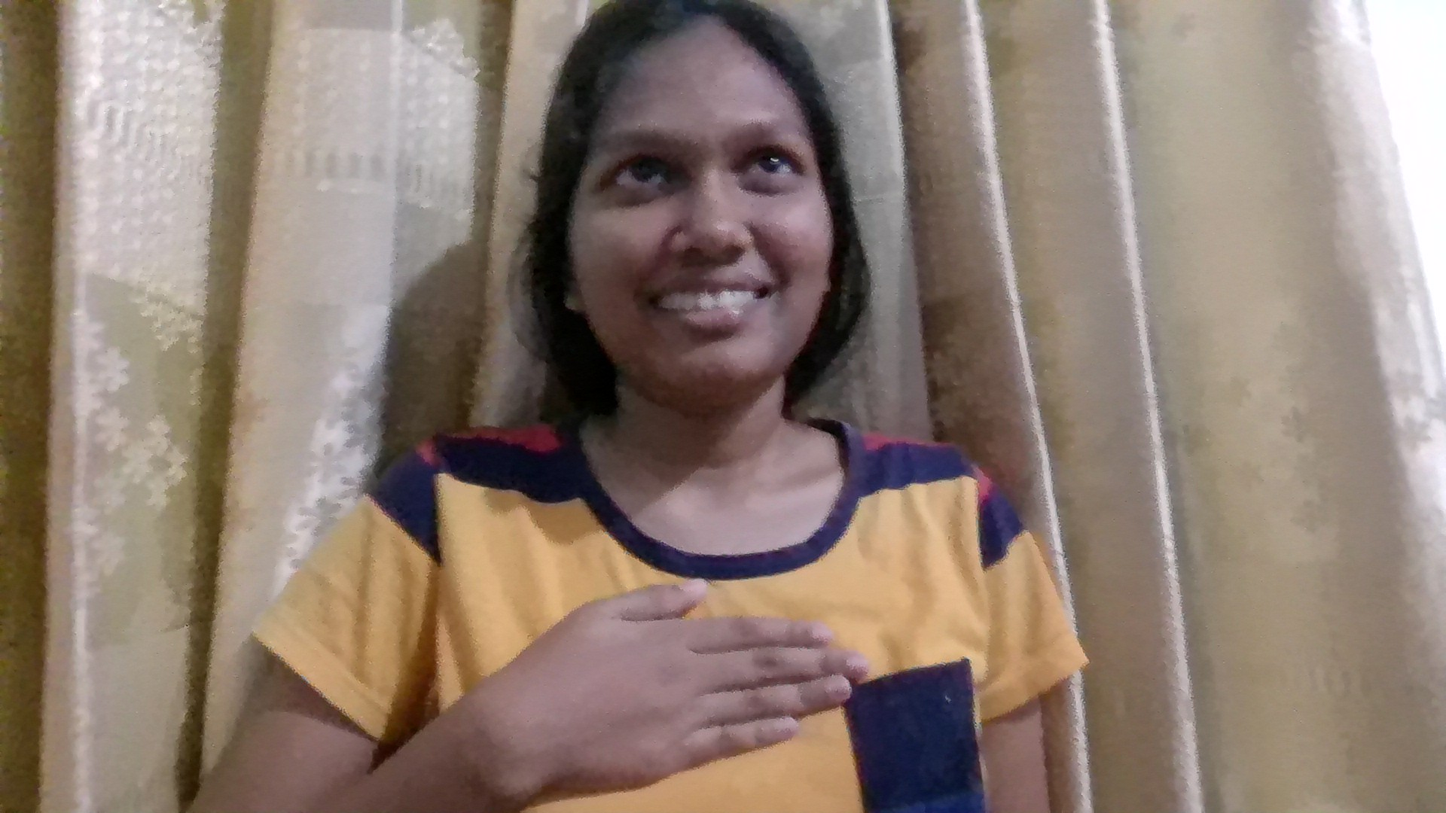Please: (409, 514, 881, 813)
